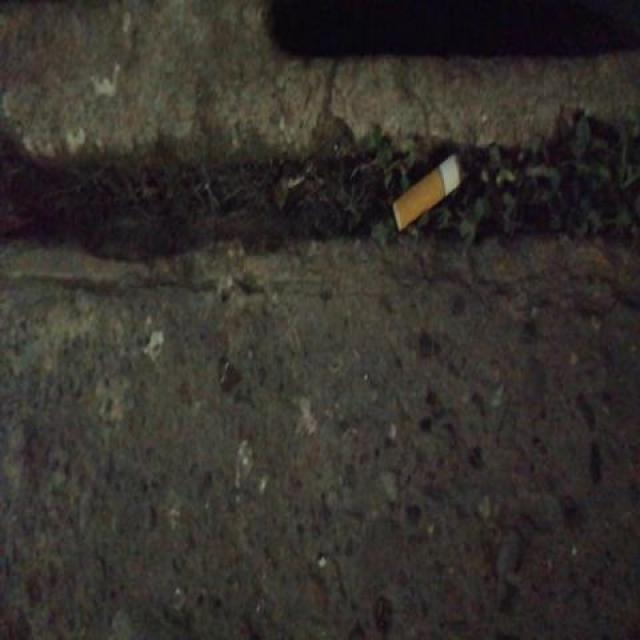non-organic waste: (384, 150, 471, 241)
